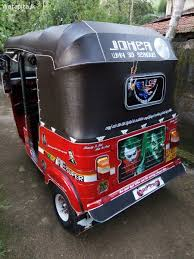tuk tuk: (1, 20, 188, 237)
